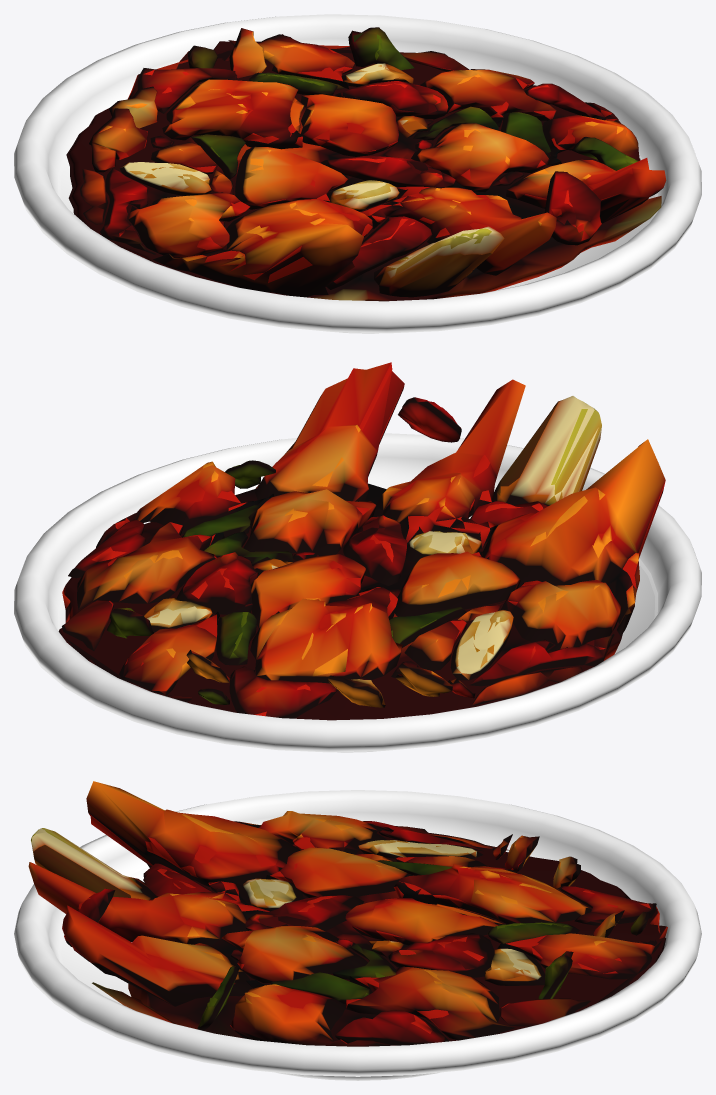
The picture shows the model from 3 angles, top to bottom: view 1: azimuth 30°, elevation 25°; view 2: azimuth 150°, elevation 25°; view 3: azimuth 270°, elevation 25°; orthographic projection. The views are drawn at different scales.
Parts seen in each view (by area): view 1: SM_D07; view 2: SM_D07; view 3: SM_D07.
Boxes of the visible parts, x1,y1,x2,y2 form: SM_D07: (14,14,701,333); SM_D07: (14,362,701,752); SM_D07: (14,781,701,1080).
Bounding box in the file's own units: 0.186 × 0.052 × 0.2.
